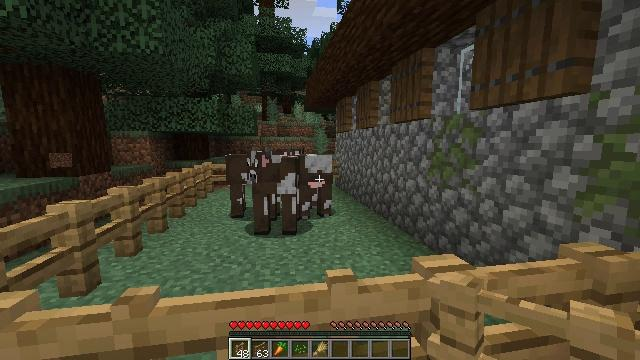cow: (229, 151, 297, 215), (251, 153, 294, 234), (299, 153, 334, 215)
